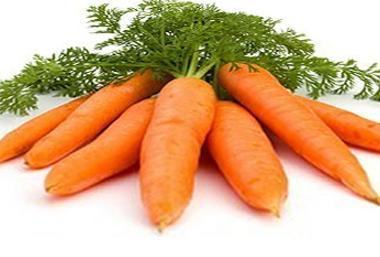carrot: (7, 64, 380, 225), (34, 79, 375, 211)
